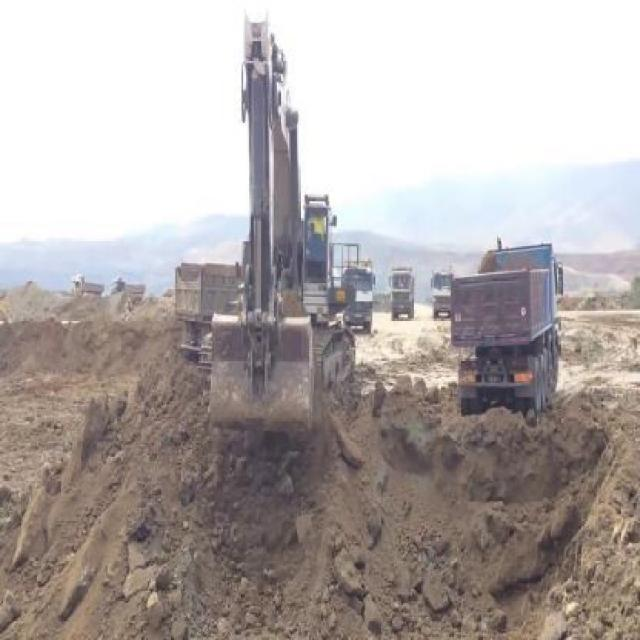Dump Truck: (451, 239, 566, 413), (172, 259, 236, 346), (346, 260, 376, 334), (389, 266, 417, 320), (432, 266, 453, 320)
Excavator: (210, 2, 356, 441)
